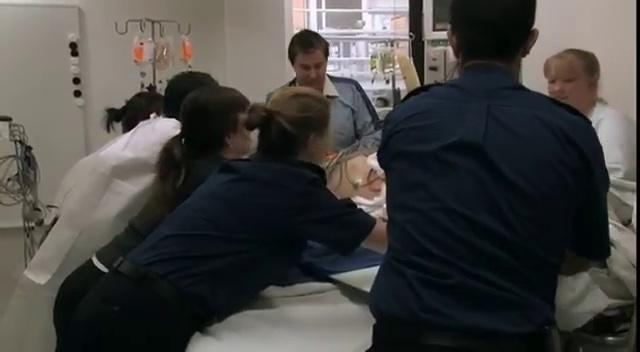others: (372, 0, 615, 352), (60, 82, 342, 352), (47, 85, 273, 352), (12, 72, 233, 303), (263, 28, 383, 157), (537, 50, 633, 192), (99, 83, 170, 142)
patient: (323, 139, 389, 221)
